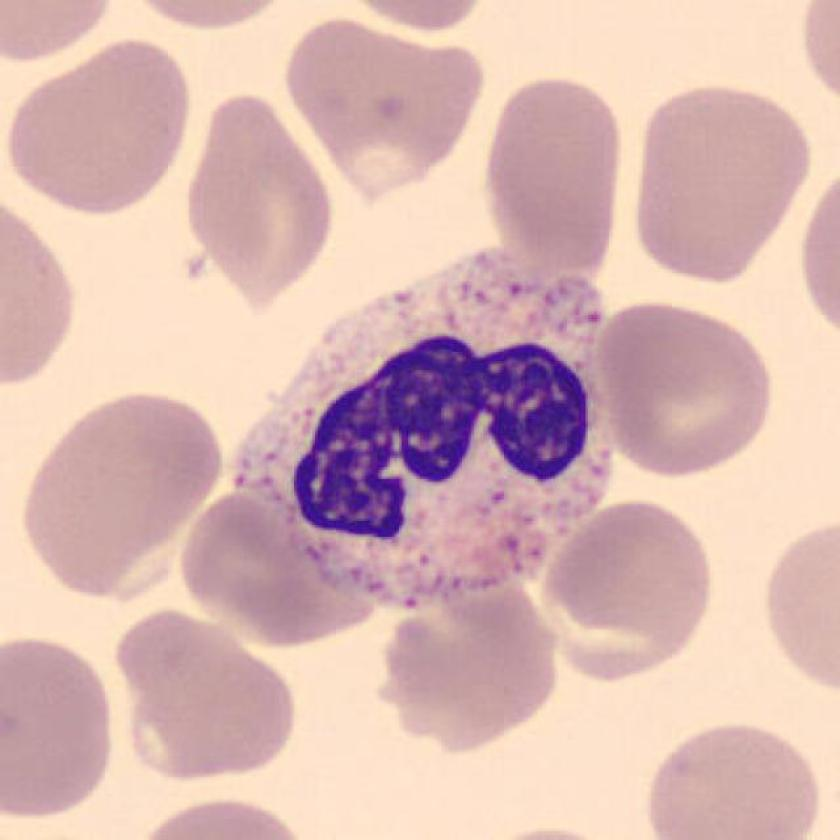neutrophil: (229, 249, 614, 609)
